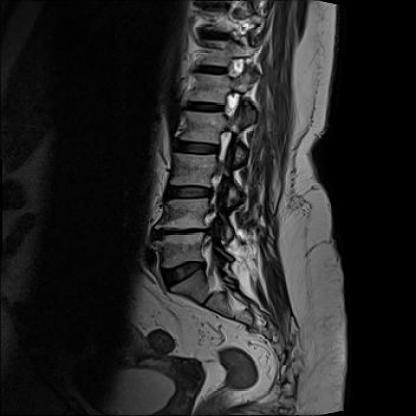Disc Bulgerotation: (155, 257, 214, 288)
Disc Herniationrotation: (145, 217, 216, 247)
